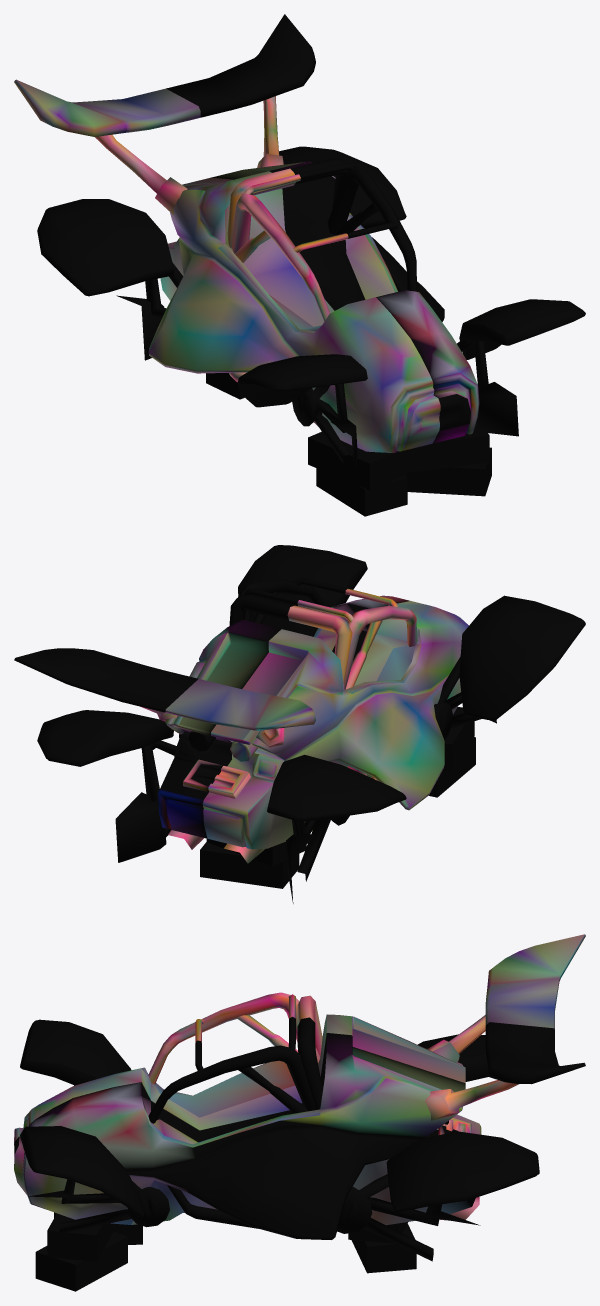
Rendered from OldOctane.gltf.
The picture shows the model from 3 angles, top to bottom: view 1: azimuth 30°, elevation 25°; view 2: azimuth 150°, elevation 25°; view 3: azimuth 270°, elevation 25°; orthographic projection.
Visible parts, largest first — view 1: OldOctane; view 2: OldOctane; view 3: OldOctane.
Part boxes in pixels (x1,y1,x2,y2): OldOctane: (14, 14, 585, 516); OldOctane: (14, 545, 585, 903); OldOctane: (14, 934, 585, 1291).
Size of the model in its own units: 8.06 by 5.9 by 12.05.
